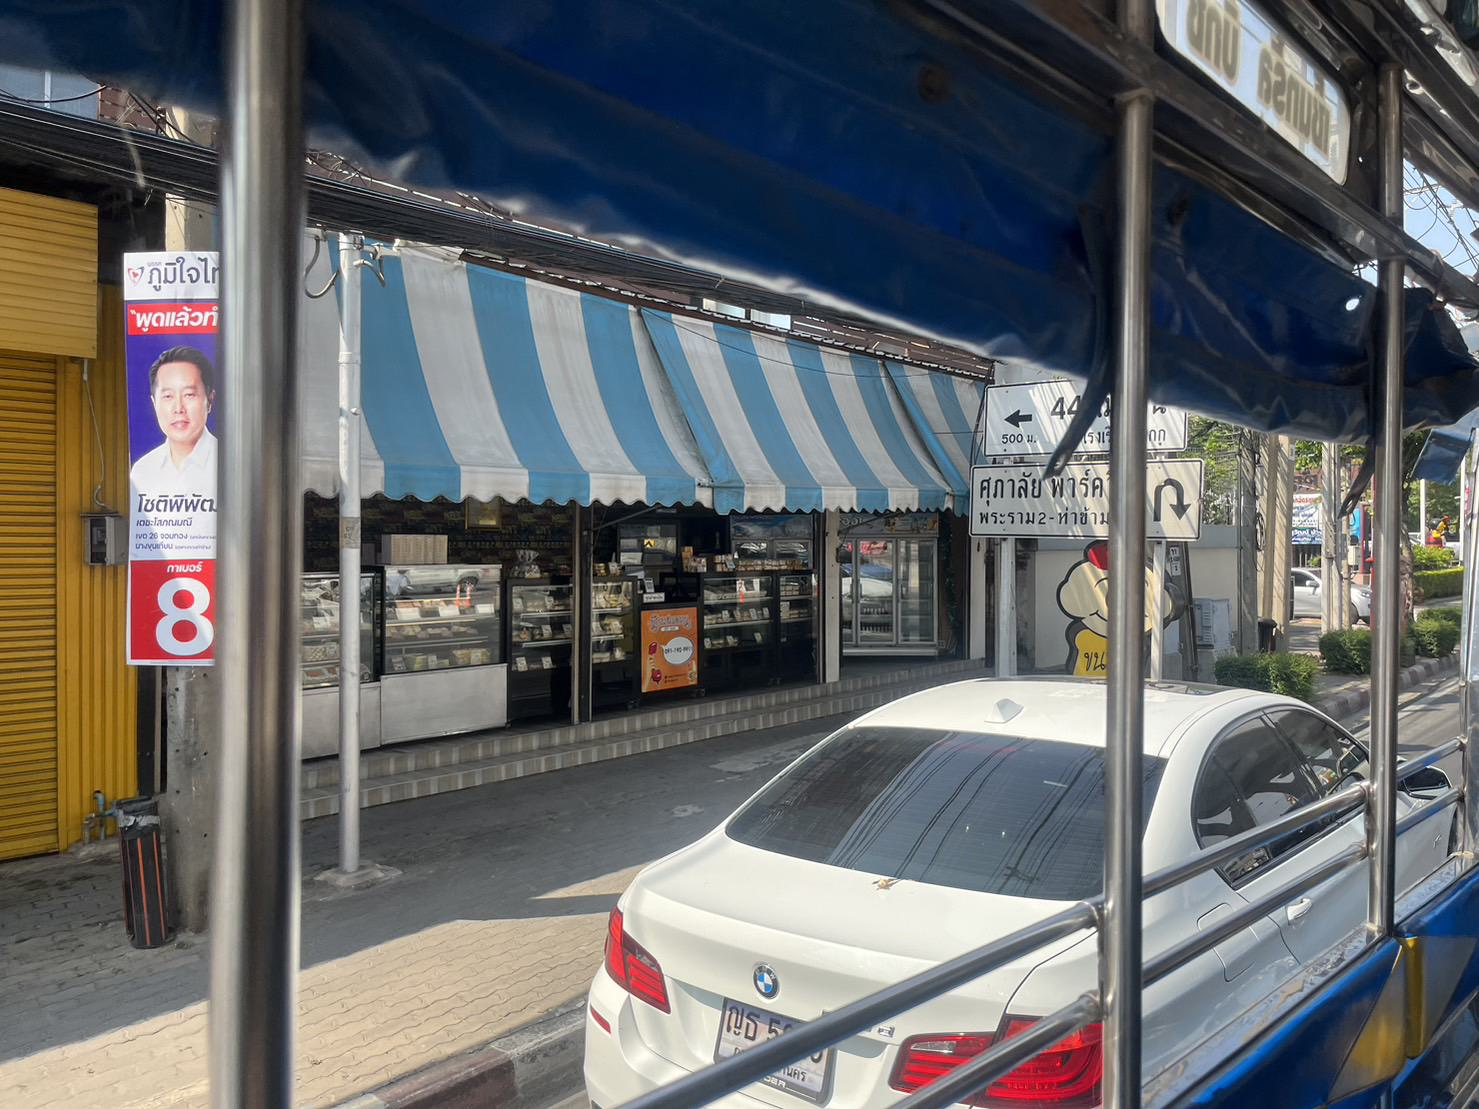Banner: (125, 254, 246, 683)
